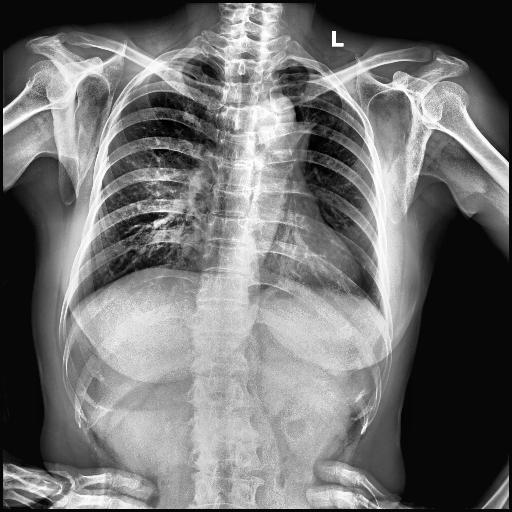0- Aortic enlargement: (249, 91, 296, 148), (254, 94, 296, 146), (252, 94, 295, 142)
11- Pleural thickening: (177, 57, 207, 67), (279, 66, 306, 74)
13- Pulmonary fibrosis: (292, 106, 341, 152), (308, 90, 338, 133)
3- Cardiomegaly: (199, 231, 361, 287)
6- Infiltration: (308, 90, 338, 133)
